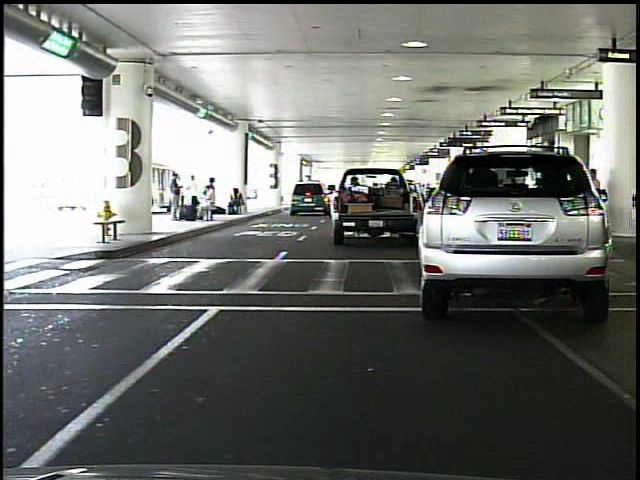person: (584, 165, 608, 246), (169, 171, 189, 224)
